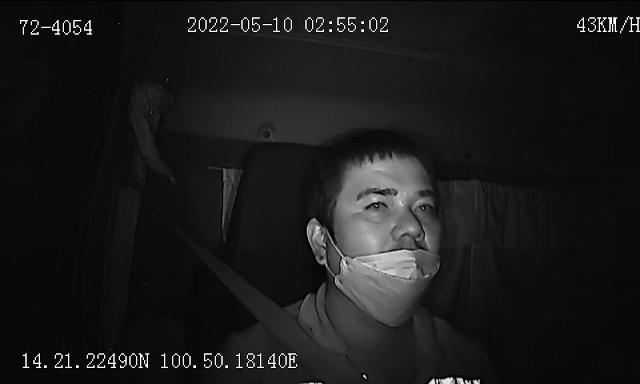SafeDriving: (358, 194, 395, 218), (408, 192, 440, 218)
Seatbelt: (195, 248, 368, 384)
